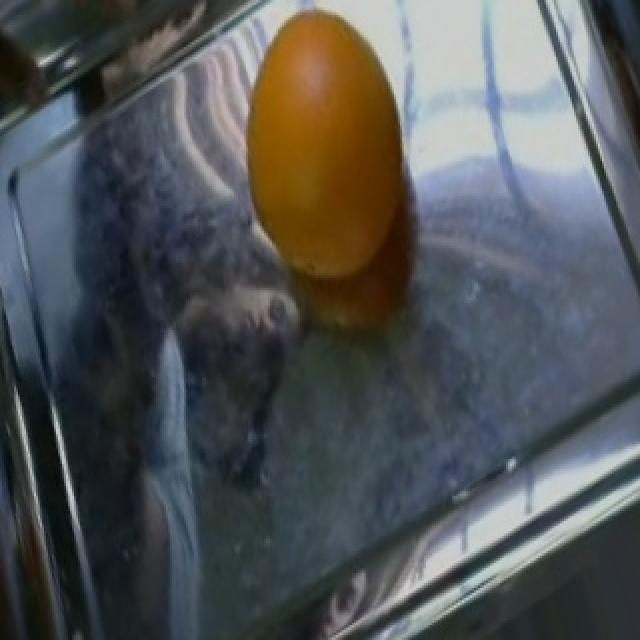Fruit: (220, 7, 430, 293)
